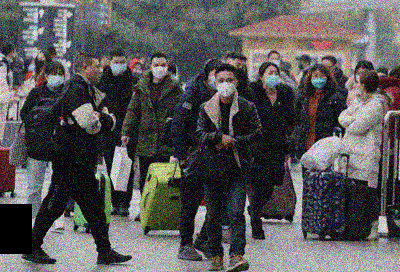with_mask: (215, 76, 237, 96), (229, 61, 247, 81), (263, 70, 281, 88), (310, 71, 328, 88), (47, 70, 65, 87), (110, 58, 127, 75), (151, 61, 168, 78), (268, 55, 280, 68), (35, 54, 46, 68), (354, 70, 364, 82), (355, 82, 362, 98), (298, 59, 306, 69)
without_mask: (88, 61, 102, 84)
